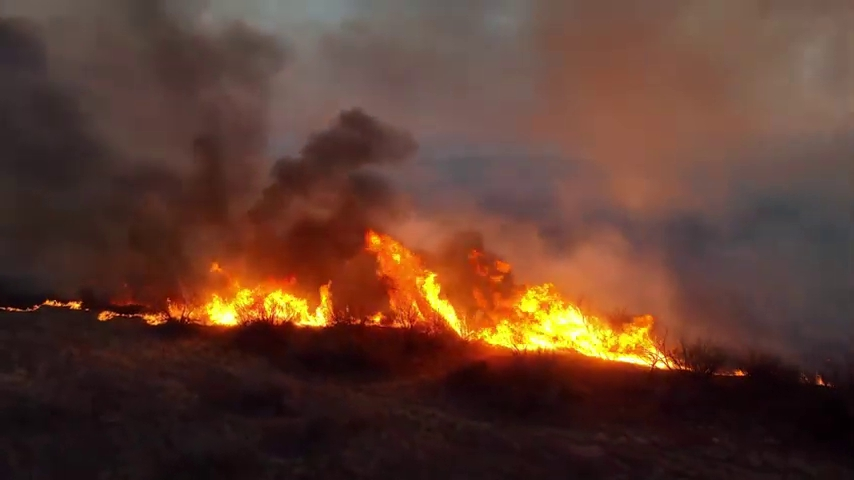forest_fire: (363, 230, 663, 366), (97, 278, 339, 326), (469, 251, 510, 281), (42, 300, 81, 309), (210, 263, 225, 273)
